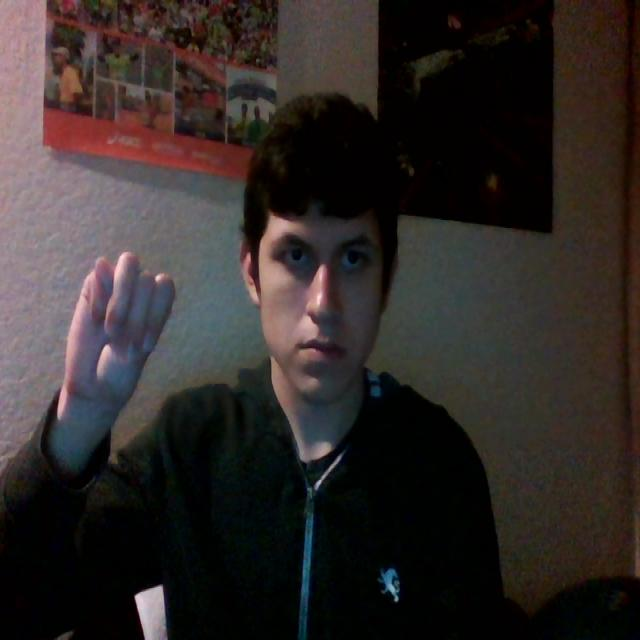M: (36, 230, 203, 433)
